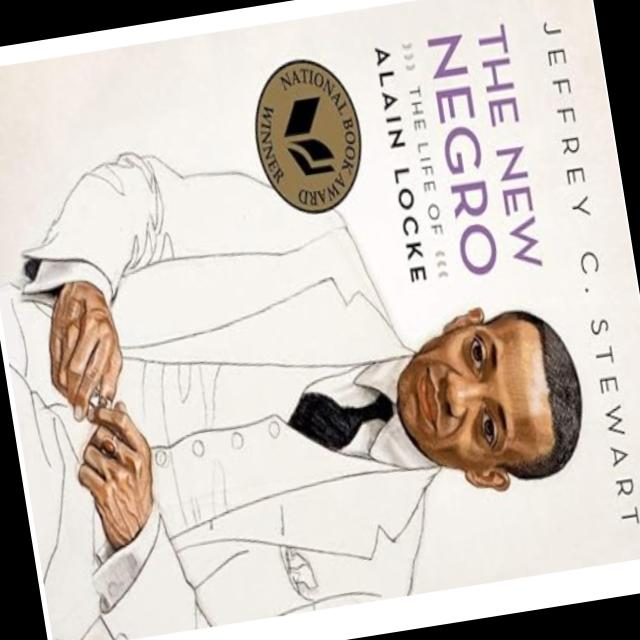titles-or-authors: (357, 8, 558, 306), (532, 8, 640, 539)
